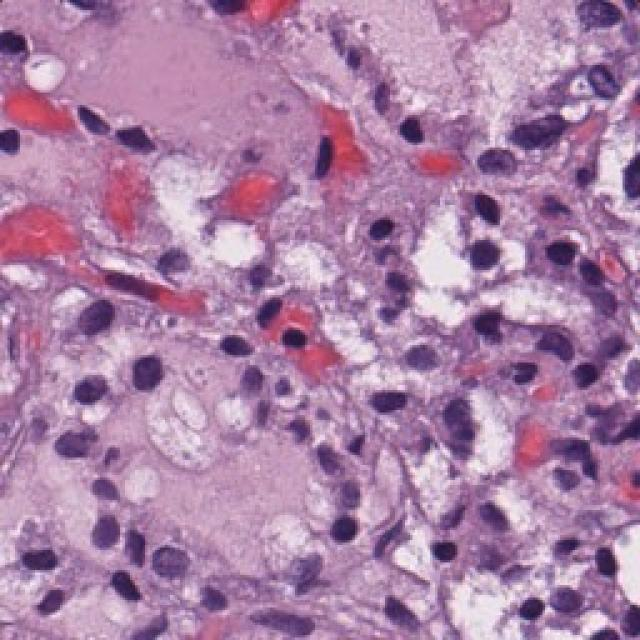normal: (106, 320, 182, 403), (51, 404, 121, 468), (457, 222, 523, 288), (72, 359, 136, 424), (150, 532, 208, 600), (320, 504, 380, 568), (396, 335, 456, 392), (568, 350, 620, 408), (115, 517, 152, 587), (215, 332, 268, 370)
